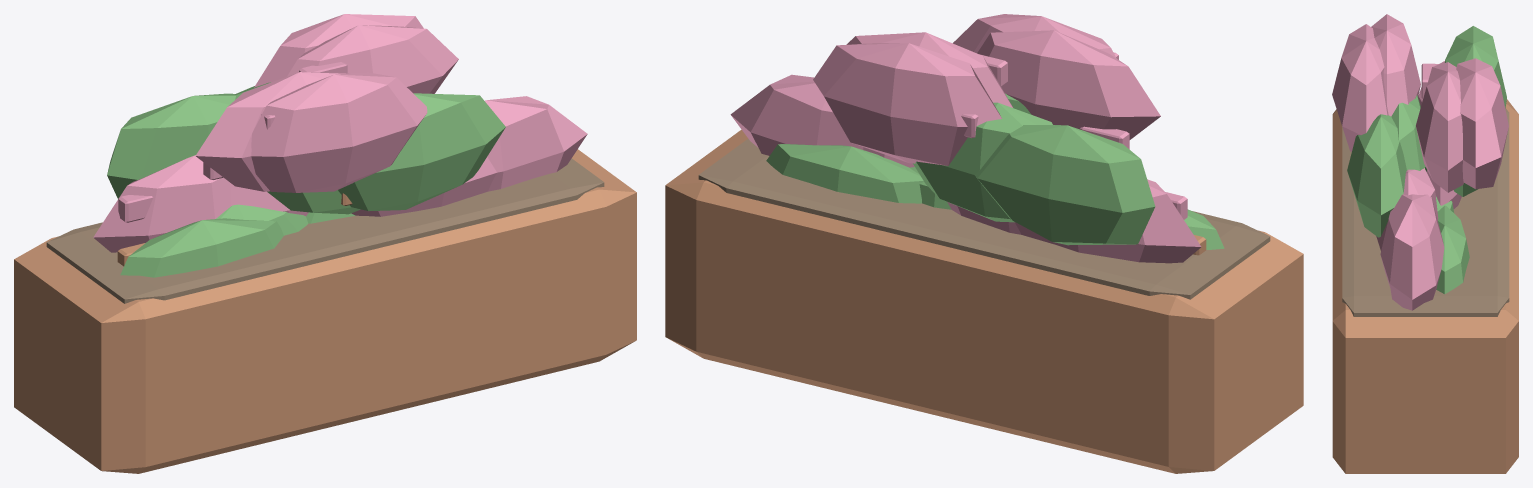
Rendered from b08_geranium_window_box.glb.
3 renders of one model, left to right at view 1: azimuth 30°, elevation 25°; view 2: azimuth 150°, elevation 25°; view 3: azimuth 270°, elevation 25°, orthographic. The views are drawn at different scales.
Visible parts, largest first — view 1: b08_geranium_window_box; view 2: b08_geranium_window_box; view 3: b08_geranium_window_box.
Boxes of the visible parts, x1,y1,x2,y2 form: b08_geranium_window_box: (14,14,636,473); b08_geranium_window_box: (665,14,1303,473); b08_geranium_window_box: (1332,14,1518,473).
Bounding box in the file's own units: 1.1 × 0.666 × 0.36.
